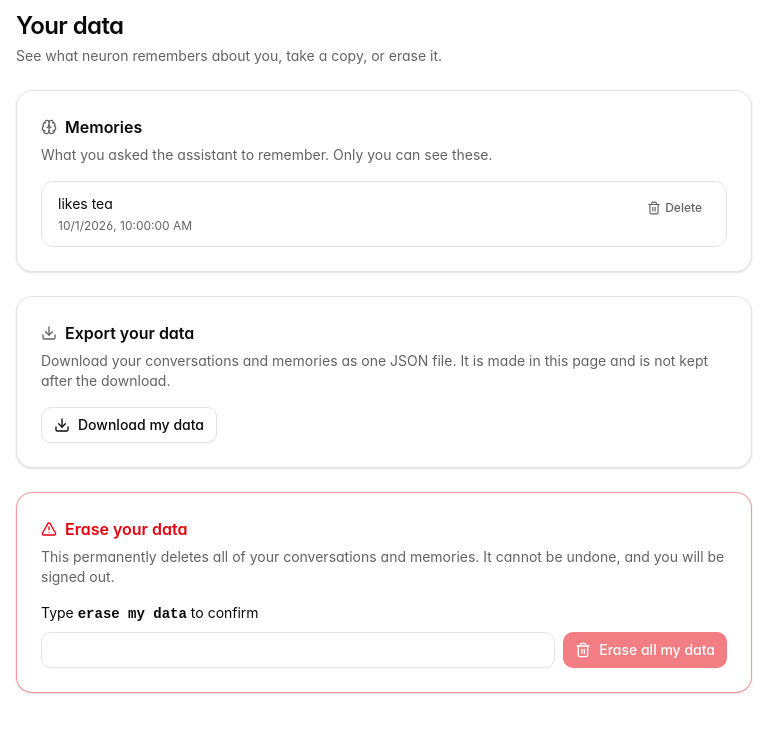
Test: export › downloads one dated JSON file with everything in it, then revokes the URL
The width and height of the screenshot is (769, 739).
expect the text "likes tea" is shown: met, box x1=58 y1=195 x2=113 y2=212
Click the button "Download my data". click: (129, 425)
box: x1=41 y1=407 x2=217 y2=443
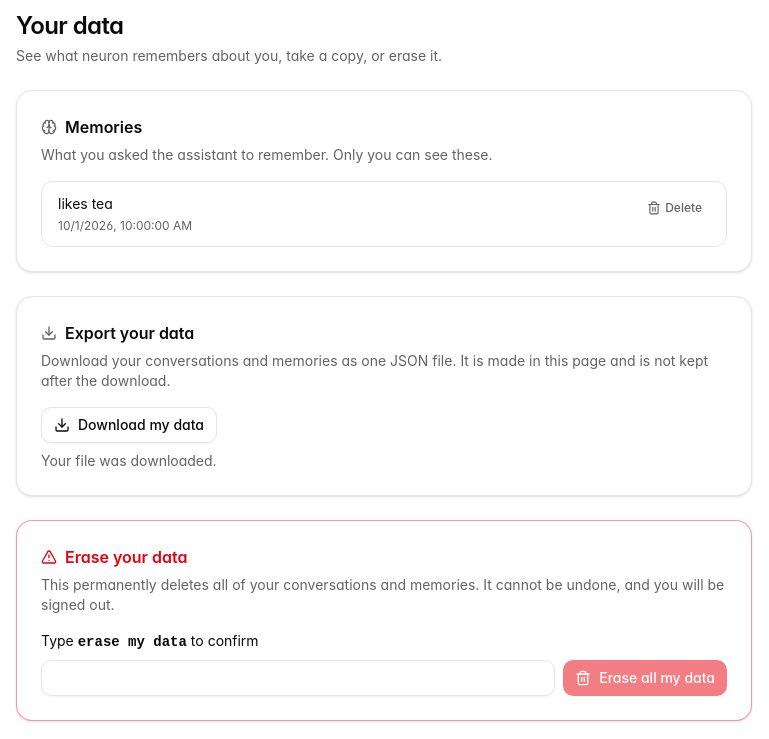
expect the text "likes tea" is shown: met, box x1=58 y1=195 x2=113 y2=212
expect the text "Your file was downloaded." is shown: met, box x1=41 y1=452 x2=217 y2=469
